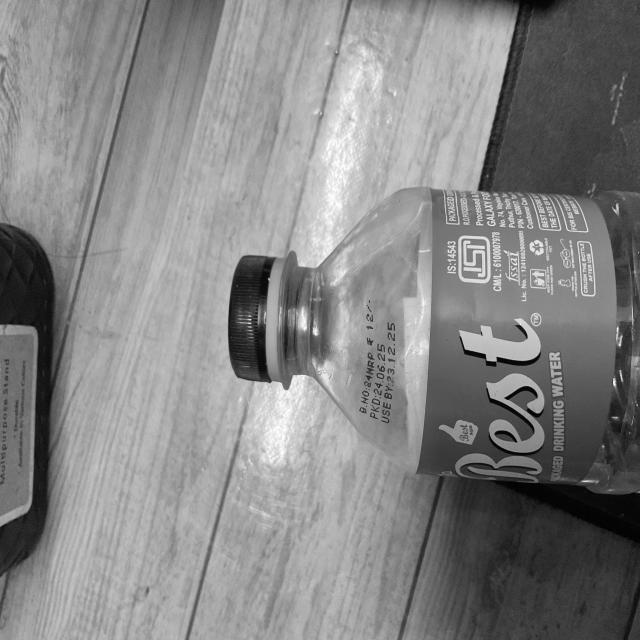Good-cap-Df0S: (222, 247, 293, 393)
